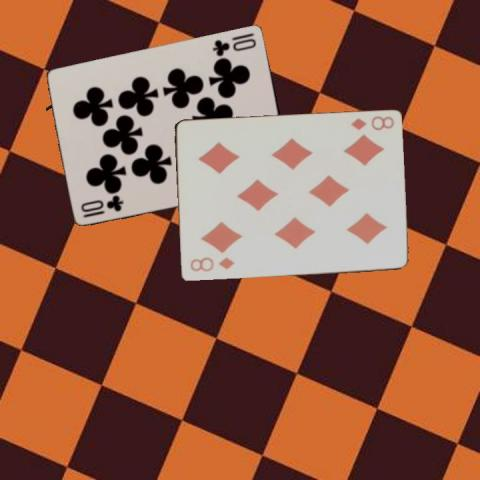10c: (78, 192, 125, 218), (210, 35, 258, 57)
8d: (347, 113, 396, 132), (187, 254, 235, 273)
